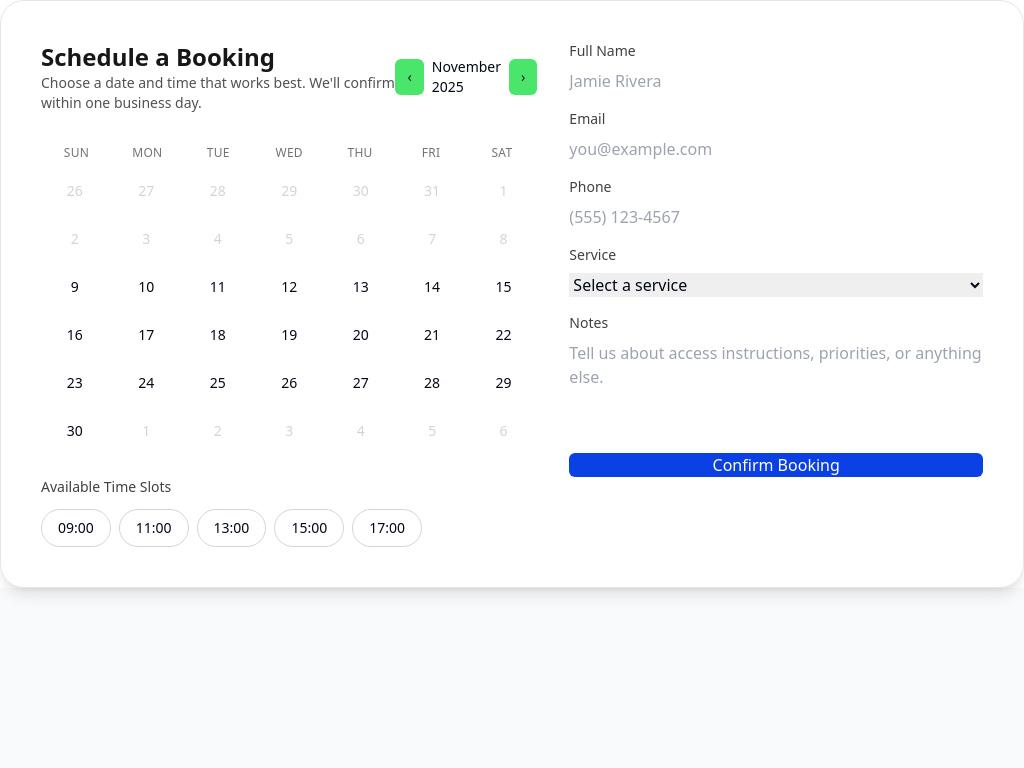
BookingScheduler › requires a date before selecting a time slot
Click the button "09:00" at x=76, y=528, box 41,509 -> 111,547
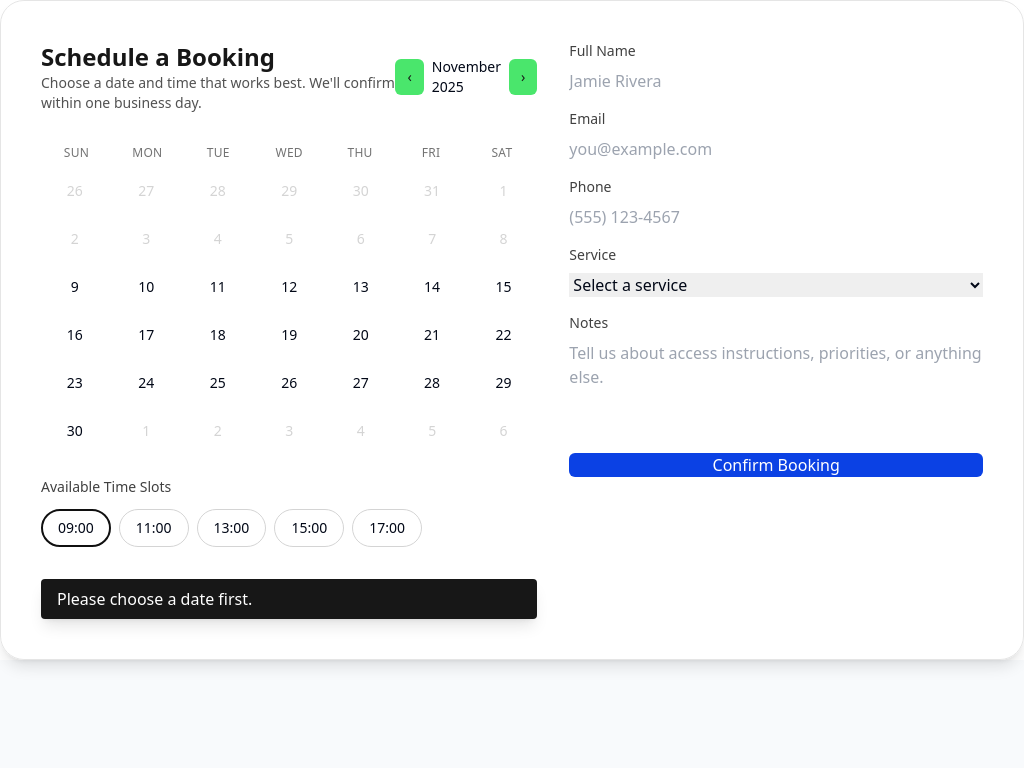
Result: the text "Please choose a date first." is shown at 41,579 -> 537,619
